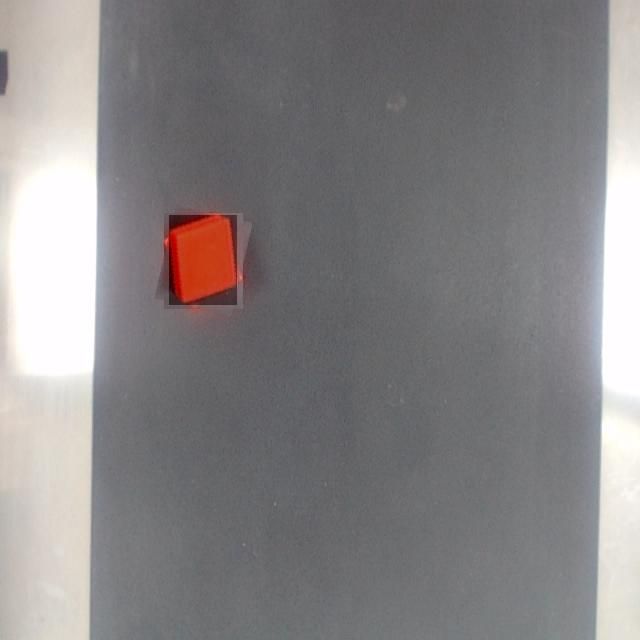Rojo: (169, 216, 237, 305)
